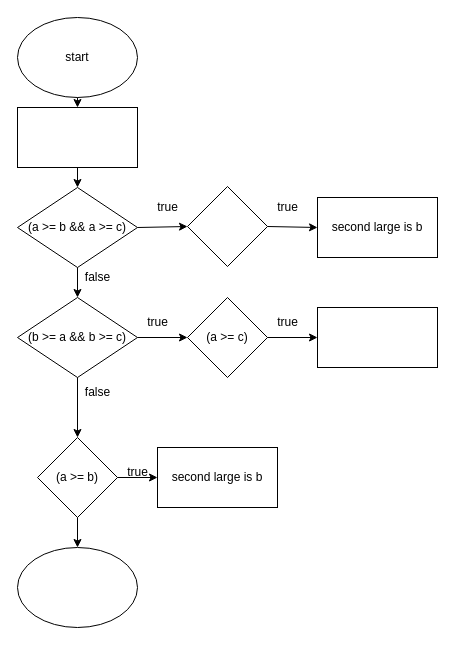
This 455x645 diagram has some shape labels left out. The box of each missing label's shape, as (x1, y1, x2, y2) in pixels:
(b >= c): (186, 186, 268, 266)
declare a ,b,c: (16, 106, 138, 168)
end: (16, 546, 138, 628)
second large is c: (316, 306, 438, 368)
